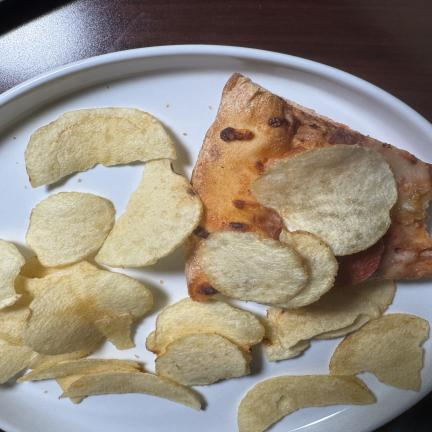chips: (251, 145, 397, 255), (25, 108, 176, 187), (96, 159, 202, 267), (23, 270, 152, 355), (264, 281, 395, 360), (0, 257, 98, 344), (200, 231, 307, 303), (238, 376, 375, 431), (330, 314, 429, 390), (146, 298, 264, 355), (26, 192, 114, 266), (61, 371, 200, 410), (271, 229, 337, 308), (156, 334, 249, 385), (17, 359, 141, 382), (56, 360, 140, 391), (260, 317, 308, 361), (0, 239, 25, 309), (20, 256, 98, 278), (0, 339, 37, 383), (29, 346, 94, 369)
pizza: (185, 73, 431, 300)
plate: (0, 46, 431, 257)
